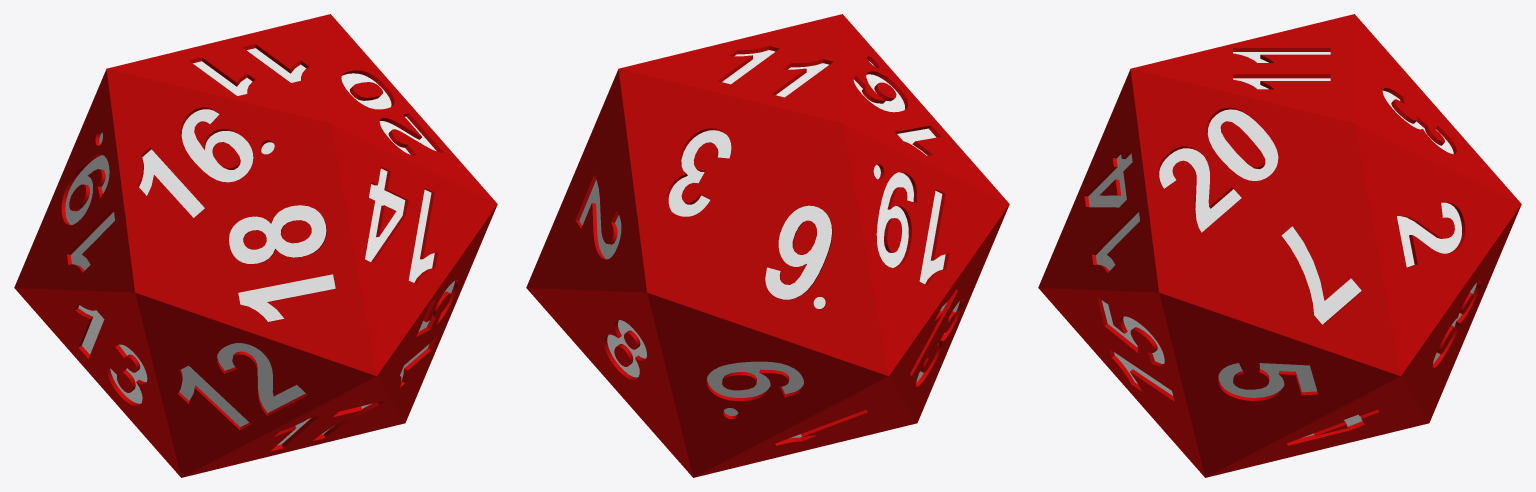
The model's file is Game_Dice_D20_Red_01.fbx.
3 views of the same model, side by side, from view 1: azimuth 30°, elevation 25°; view 2: azimuth 150°, elevation 25°; view 3: azimuth 270°, elevation 25° (orthographic).
Parts seen in each view (by area): view 1: Game_Dice_D20_Red_01; view 2: Game_Dice_D20_Red_01; view 3: Game_Dice_D20_Red_01.
Boxes of the visible parts, box(x1,y1,x2,y2) form: Game_Dice_D20_Red_01: box(14, 14, 497, 477); Game_Dice_D20_Red_01: box(526, 14, 1009, 477); Game_Dice_D20_Red_01: box(1038, 14, 1521, 477).
Bounding box in the file's own units: 19.72 × 18.42 × 22.77.
